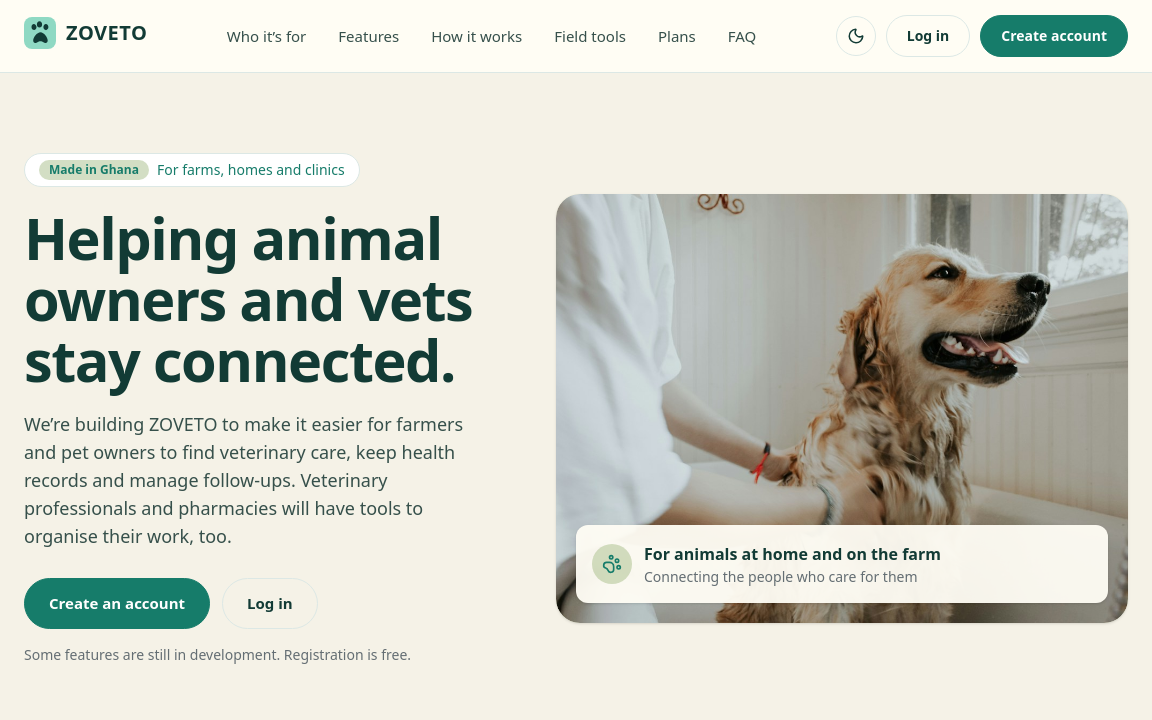
Scenario: landing page › carries a pharmacy enquiry through acceptance and stock updates
Later steps or results of the test are not shown.
Click the link "Log in" next to "Create account" at x=928, y=36, box [886, 15, 970, 57]
(page scrolled)
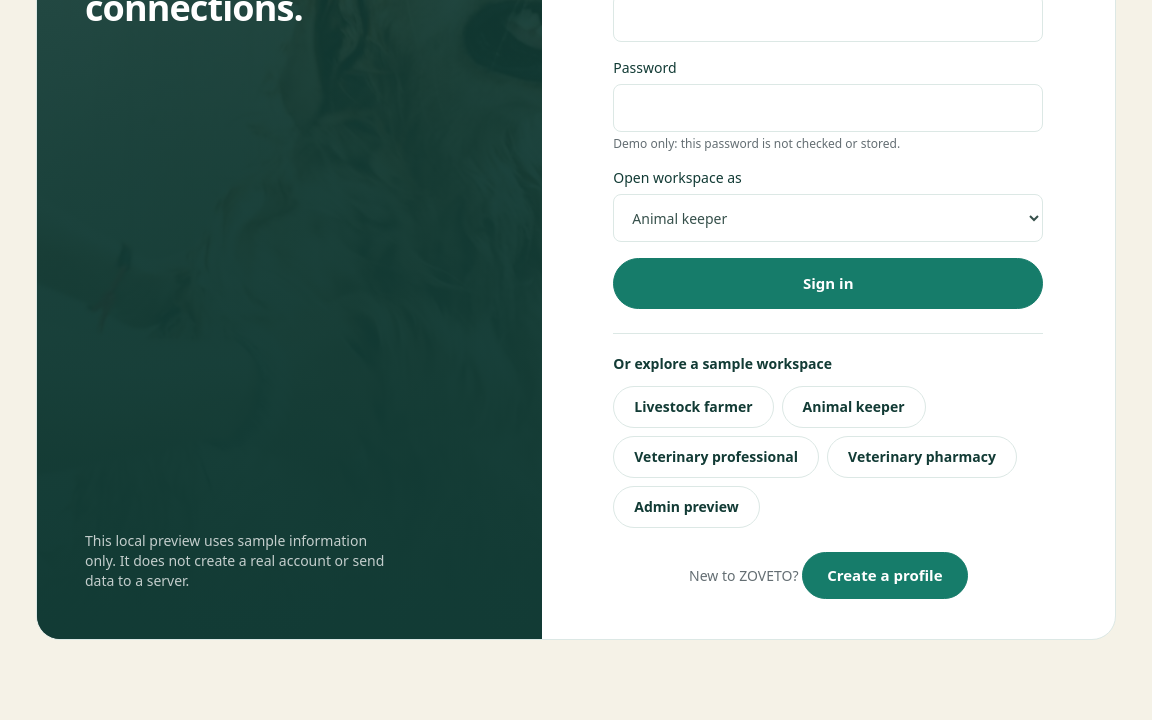
Click the button "Livestock farmer" at x=693, y=407, box [613, 386, 774, 428]
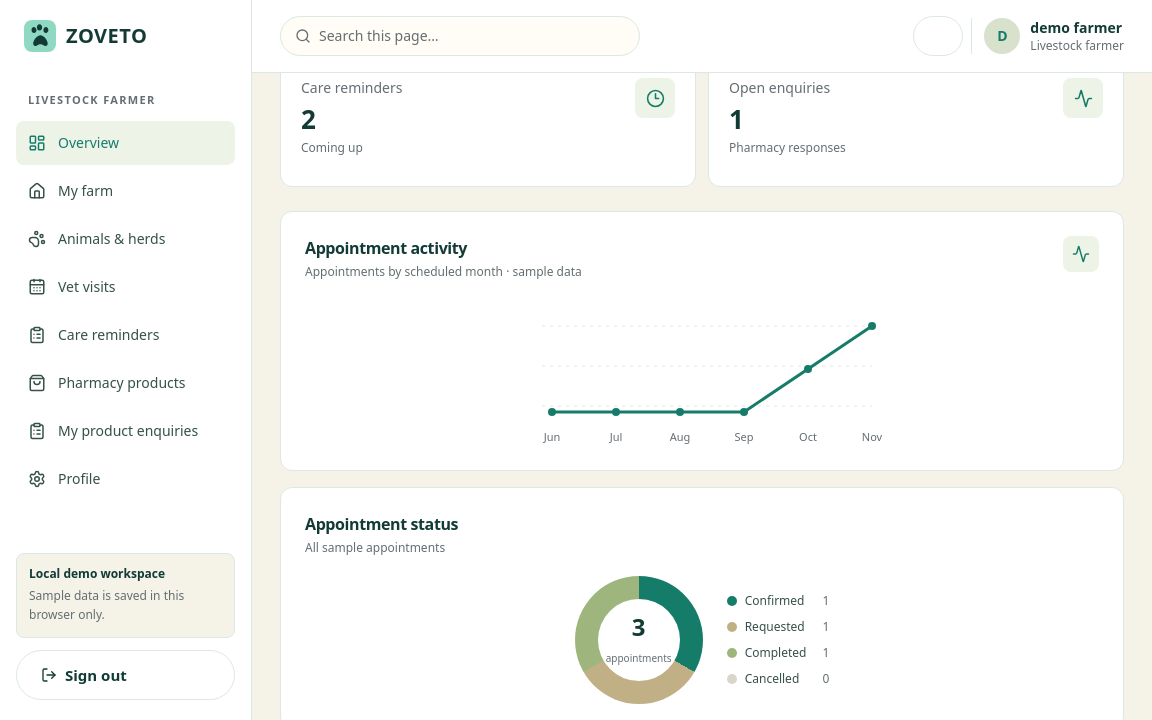
Click the link "Pharmacy products" at x=107, y=382, box [28, 373, 186, 392]
(page scrolled)
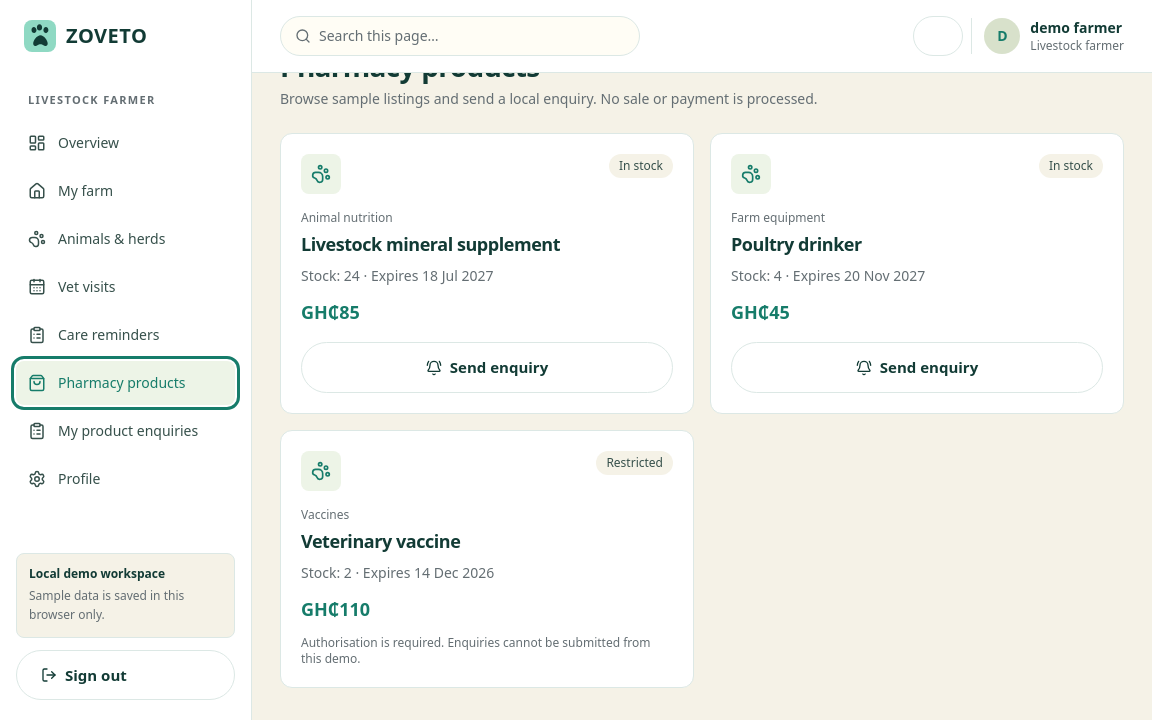
Click the button "Send enquiry" below "GH₵85" at x=487, y=368, box [301, 342, 673, 393]
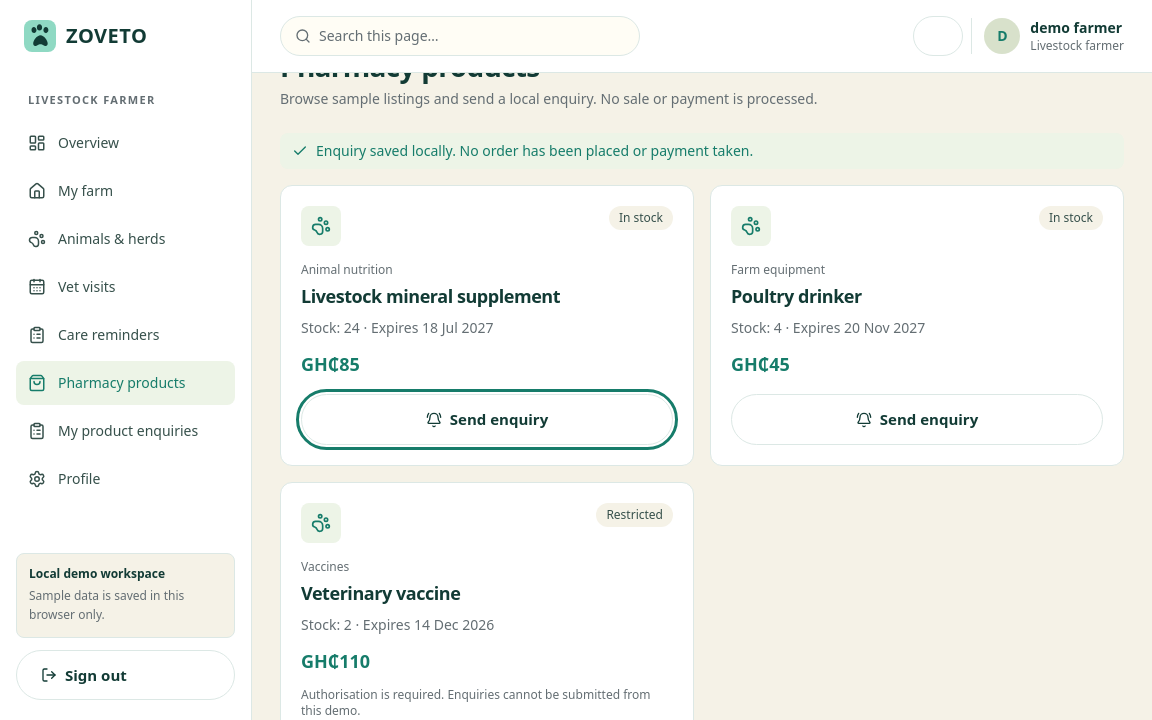
Click the link "My product enquiries" at x=113, y=430, box [28, 421, 198, 440]
(page scrolled)
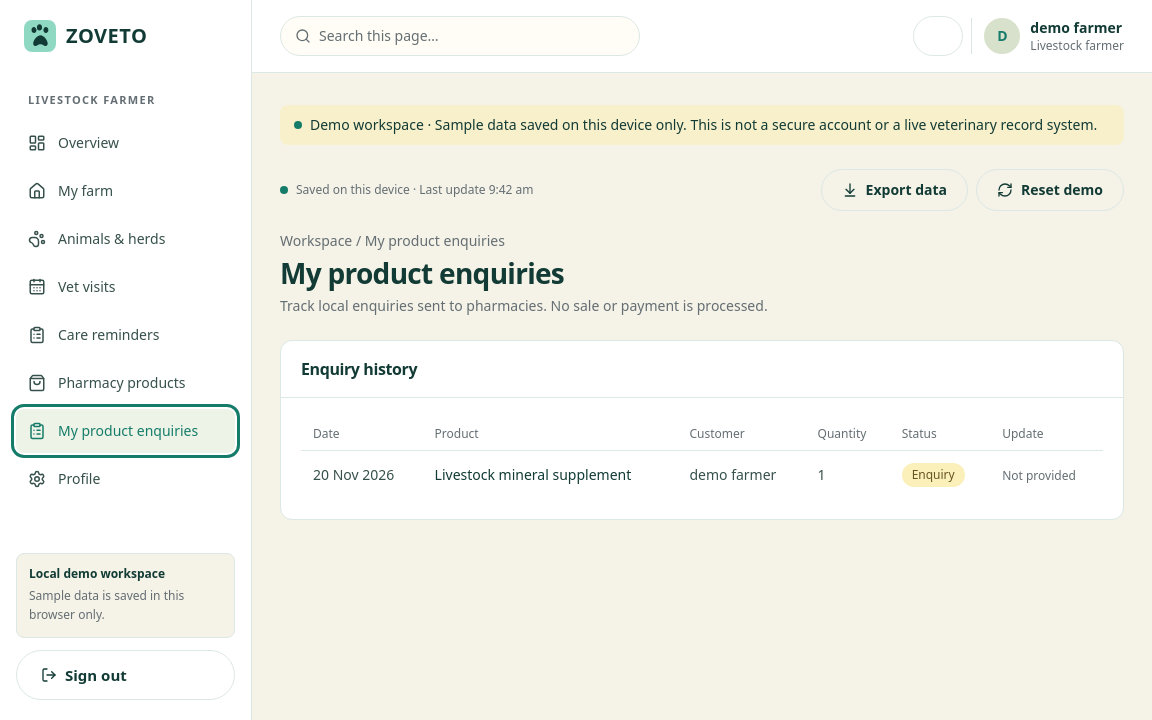
Check: the text "Enquiry" is shown, box [902, 463, 965, 487]
